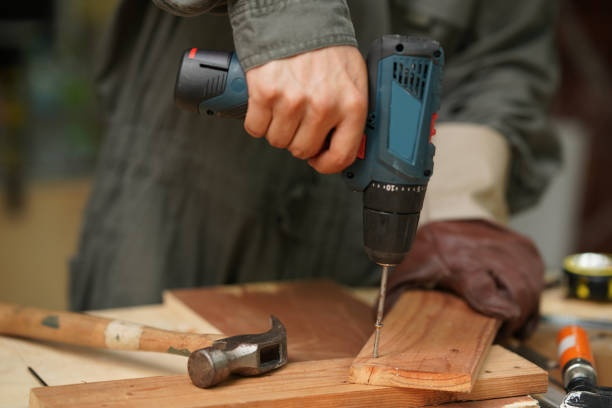driller: (174, 33, 446, 330)
hammer: (6, 300, 291, 386)
